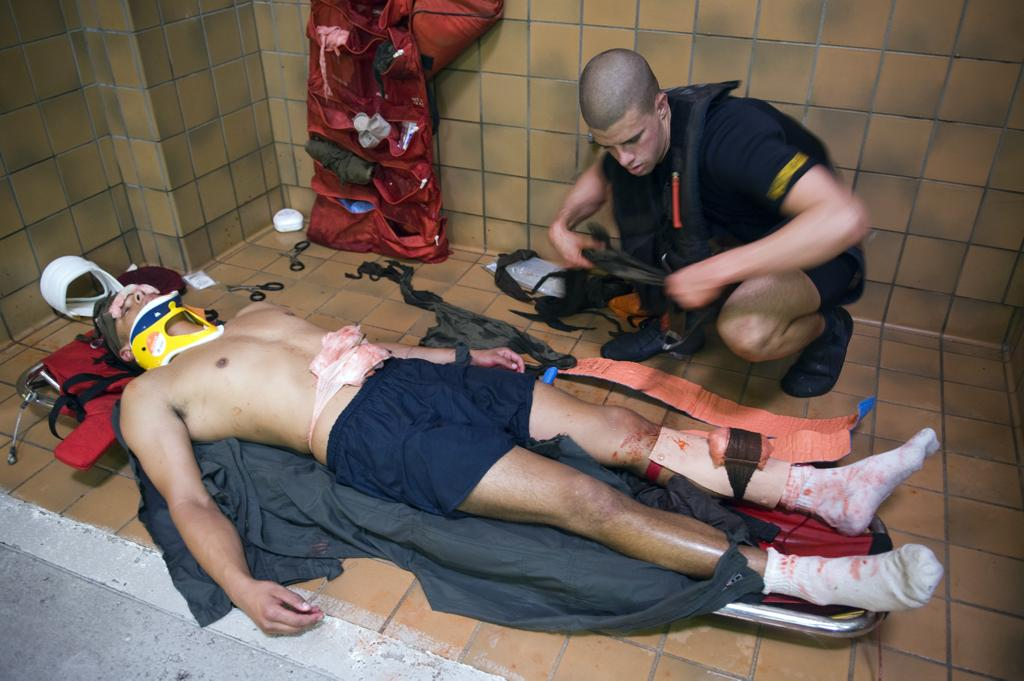face: (594, 104, 660, 184), (108, 282, 172, 328)
